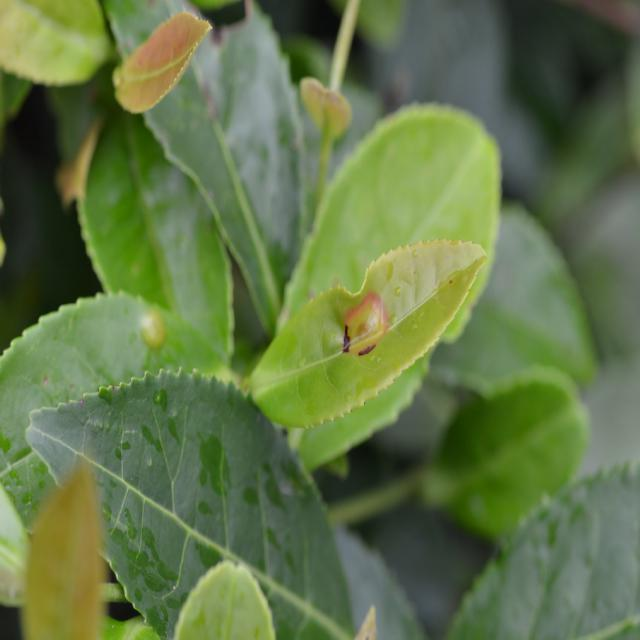Tea cake: (338, 294, 393, 352)
